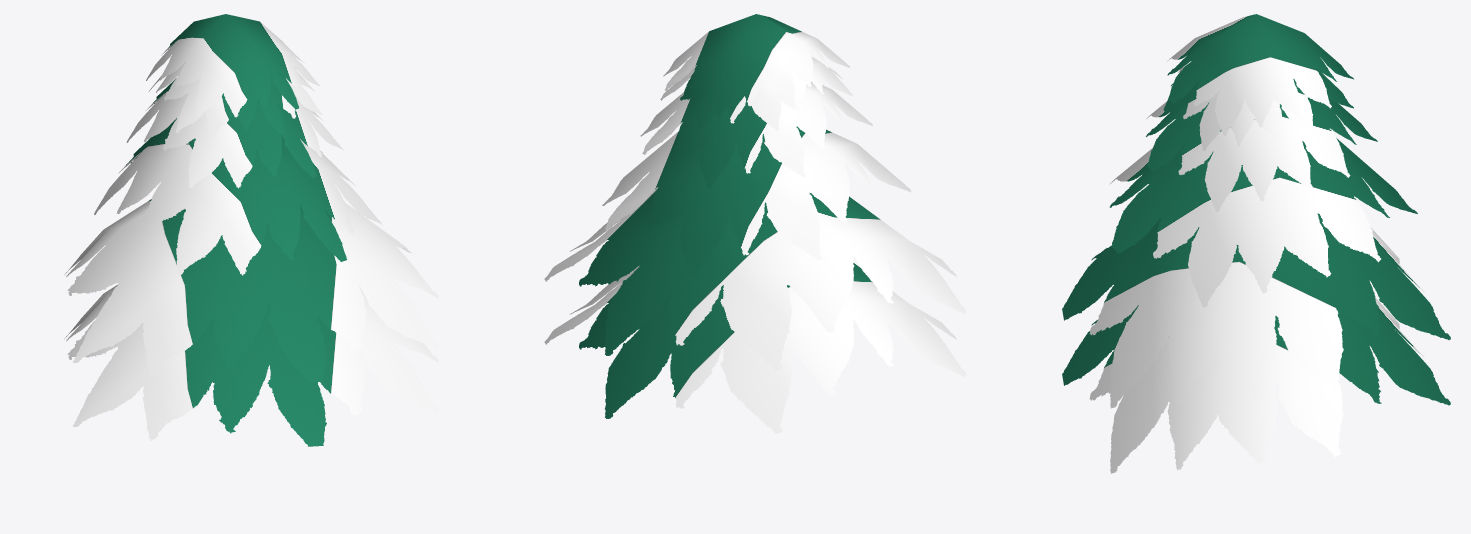
Rendered from Tree.fbx.
The picture shows the model from 3 angles, left to right: view 1: azimuth 30°, elevation 25°; view 2: azimuth 150°, elevation 25°; view 3: azimuth 270°, elevation 25°; orthographic projection. The views are drawn at different scales.
Parts seen in each view (by area): view 1: Leaves004, Leaves005, Leaves003, Leaves001, Leaves002, Leaves; view 2: Leaves004, Leaves005, Leaves003, Leaves001, Leaves002, Leaves; view 3: Leaves004, Leaves003, Leaves005, Leaves001, Leaves002, Leaves.
Part boxes in pixels (x1,y1,x2,y2): Leaves004: [64, 199, 438, 382]; Leaves005: [64, 284, 438, 446]; Leaves003: [94, 118, 382, 275]; Leaves001: [146, 14, 320, 117]; Leaves002: [126, 78, 343, 188]; Leaves: [149, 61, 322, 136]; Leaves004: [544, 187, 966, 370]; Leaves005: [544, 263, 966, 433]; Leaves003: [602, 126, 910, 274]; Leaves001: [663, 14, 850, 117]; Leaves002: [640, 81, 872, 187]; Leaves: [660, 57, 852, 131]; Leaves004: [1062, 213, 1450, 408]; Leaves003: [1109, 138, 1417, 307]; Leaves005: [1062, 297, 1450, 473]; Leaves001: [1167, 14, 1353, 135]; Leaves002: [1146, 95, 1377, 211]; Leaves: [1163, 63, 1353, 151].
Bounding box in the file's own units: 2.45 × 2.31 × 1.95.
